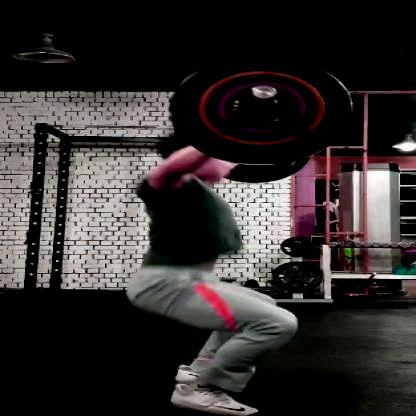Barbell: (247, 83, 277, 101)
